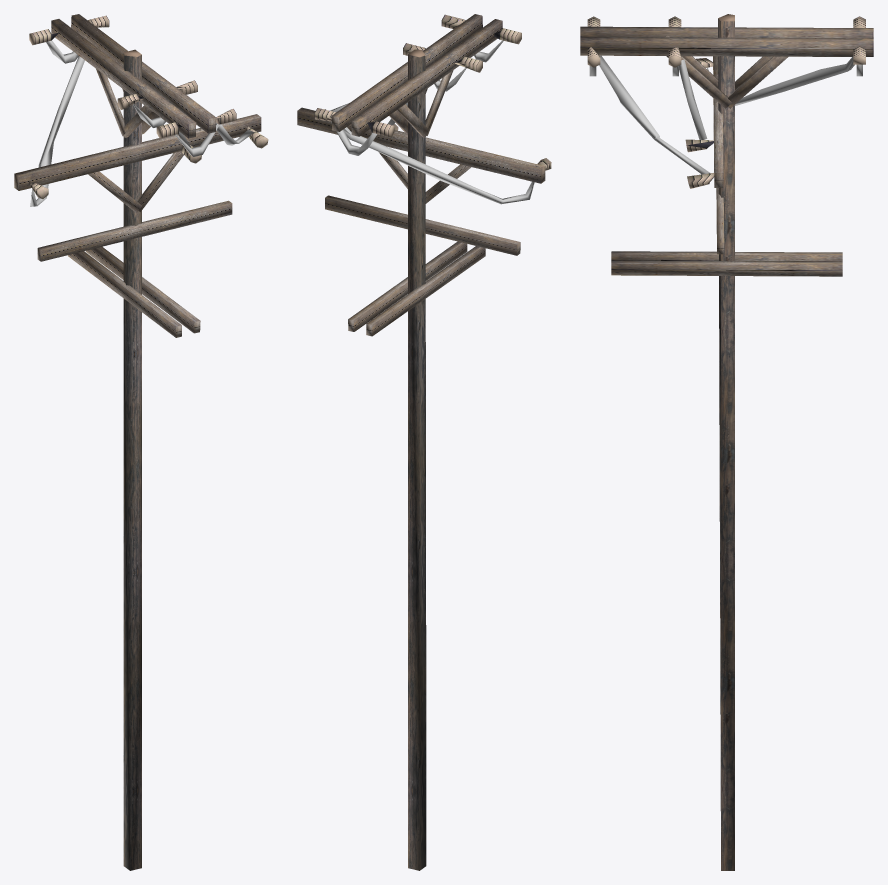
Rendered from PowerPoleJuct_3.fbx.
3 renders of one model, left to right at view 1: azimuth 30°, elevation 25°; view 2: azimuth 150°, elevation 25°; view 3: azimuth 270°, elevation 25°, orthographic. The views are drawn at different scales.
Parts seen in each view (by area): view 1: main0, pole0, wires0; view 2: main0, pole0, wires0; view 3: main0, pole0, wires0.
Part boxes in pixels (left/top/right/bottom): main0: left=14, top=14, right=268, bottom=337; pole0: left=123, top=49, right=141, bottom=870; wires0: left=30, top=40, right=253, bottom=206; main0: left=297, top=14, right=551, bottom=336; pole0: left=408, top=49, right=426, bottom=870; wires0: left=330, top=40, right=534, bottom=204; main0: left=580, top=16, right=873, bottom=276; pole0: left=718, top=14, right=734, bottom=870; wires0: left=589, top=55, right=862, bottom=174.
Bounding box in the file's own units: 2.91 × 9.3 × 2.91.
